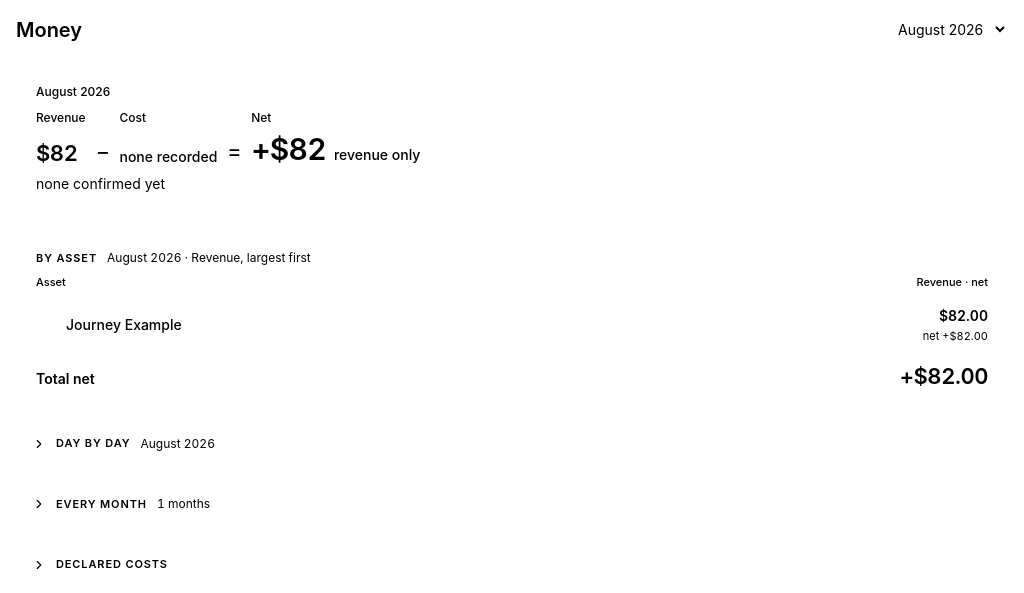
/financials — one asset states its money once › keeps the whole split with two assets even when only one earned this month
Expected: the heading "By asset" is shown, [36,250,97,266]
Click the button "Day by day August 2026" at (93, 443), box [16,423,1008,464]
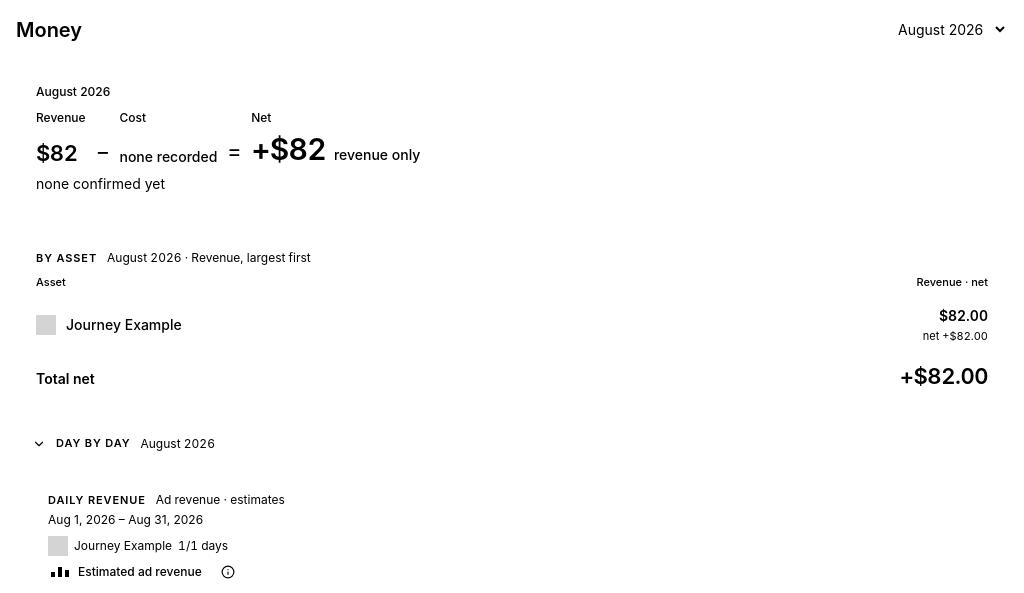
Result: the list "Journey Example 1/1 days" is shown at [48,536,228,556]
